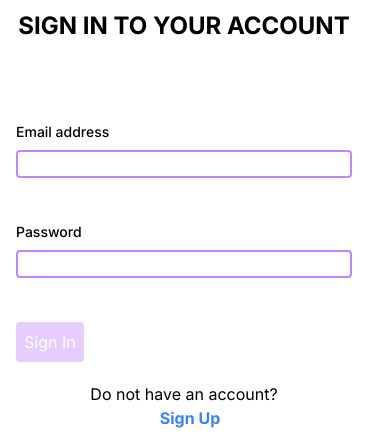
Scenario: Page › Validate sign in form
Type "111@test.com" into the field labelled "Email address". click: (184, 164)
box: x1=16 y1=150 x2=352 y2=178
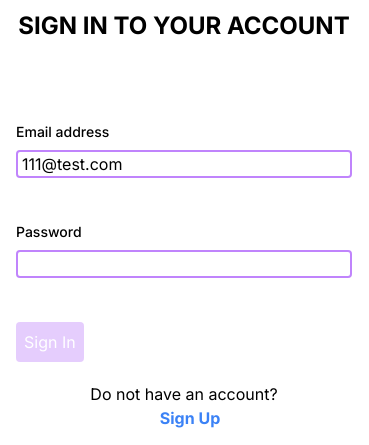
Type "Pass111)" into the password field labelled "Password". click: (184, 264)
box: x1=16 y1=250 x2=352 y2=278
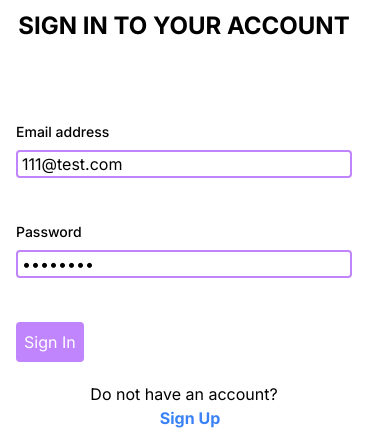
Now the button "Sign In" is enabled, box x1=16 y1=322 x2=84 y2=362
